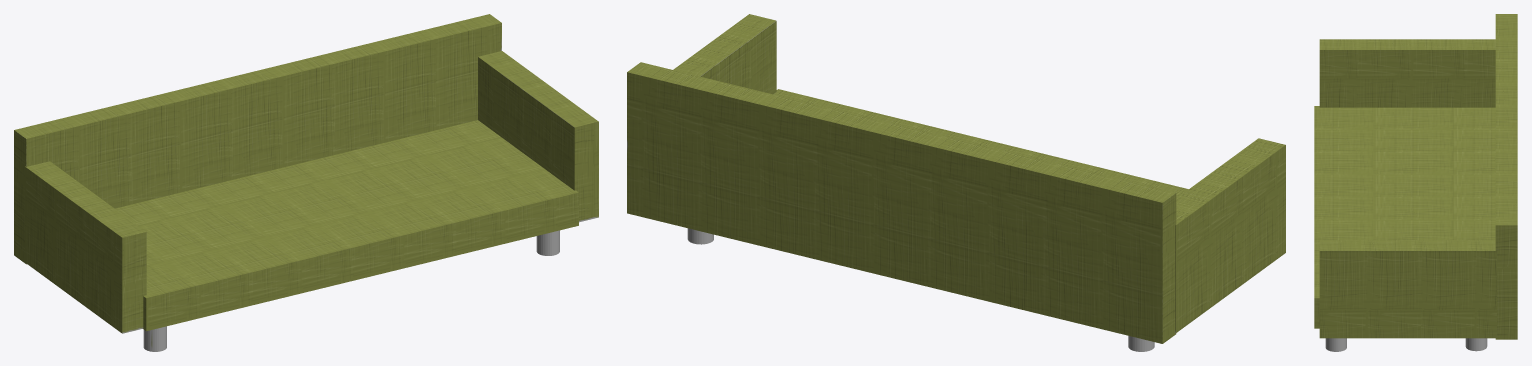
File: Sofa.fbx
The picture shows the model from 3 angles, left to right: view 1: azimuth 30°, elevation 25°; view 2: azimuth 150°, elevation 25°; view 3: azimuth 270°, elevation 25°; orthographic projection. The views are drawn at different scales.
Parts seen in each view (by area): view 1: Cylinder.003; view 2: Cylinder.003; view 3: Cylinder.003.
Boxes of the visible parts, x1,y1,x2,y2 form: Cylinder.003: (14, 14, 598, 351); Cylinder.003: (627, 14, 1285, 351); Cylinder.003: (1314, 14, 1517, 351).
Size of the model in its own units: 1040 by 321 by 422.
1 material, 1 textured.
